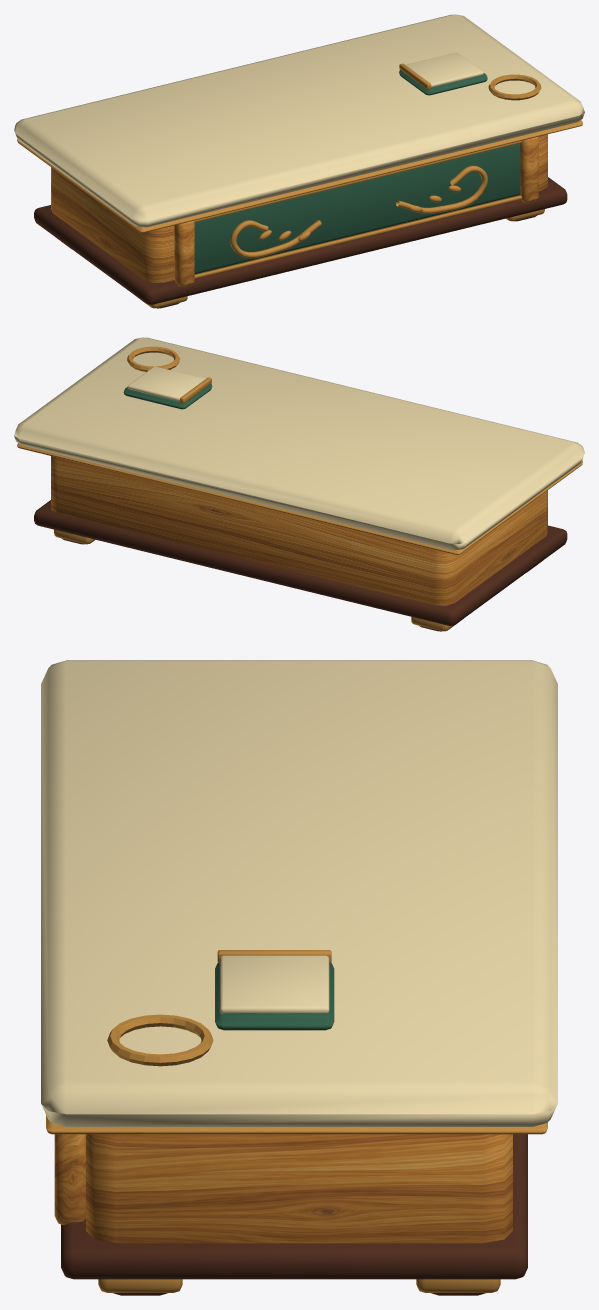
File: cash-counter.glb
3 views of the same model, one above another, from view 1: azimuth 30°, elevation 25°; view 2: azimuth 150°, elevation 25°; view 3: azimuth 270°, elevation 25° (orthographic). The views are drawn at different scales.
Parts seen in each view (by area): view 1: Turned pedestal foot; view 2: Turned pedestal foot; view 3: Turned pedestal foot.
Part boxes in pixels (<box>): Turned pedestal foot: <box>14,14,584,308</box>; Turned pedestal foot: <box>14,337,584,631</box>; Turned pedestal foot: <box>41,660,557,1295</box>.
Bounding box in the file's own units: 2.1 × 0.5955 × 1.04.
5 materials, 1 textured.
